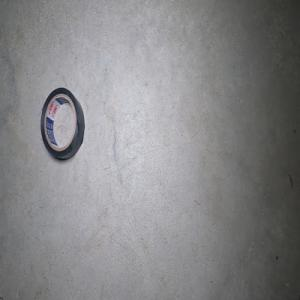Tape: (40, 87, 84, 159)
